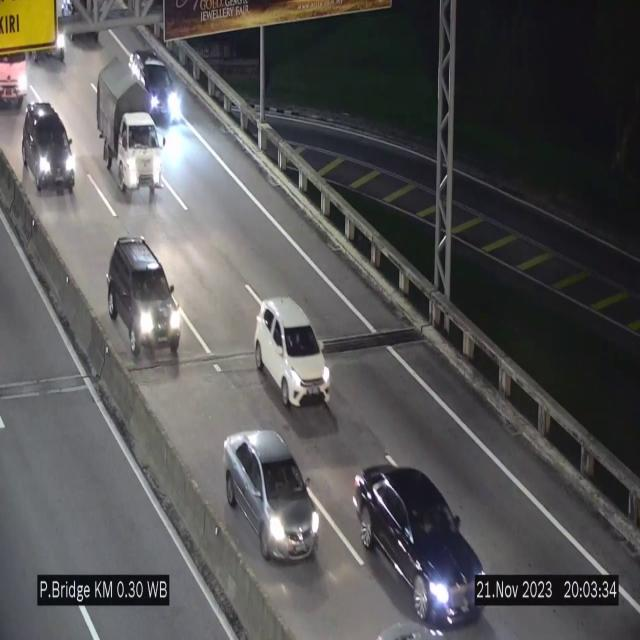Car: (356, 468, 492, 626), (224, 431, 320, 558), (107, 237, 181, 361), (255, 298, 330, 405), (22, 100, 76, 192), (127, 48, 181, 119)
Truck: (94, 55, 166, 202), (0, 37, 29, 115)
